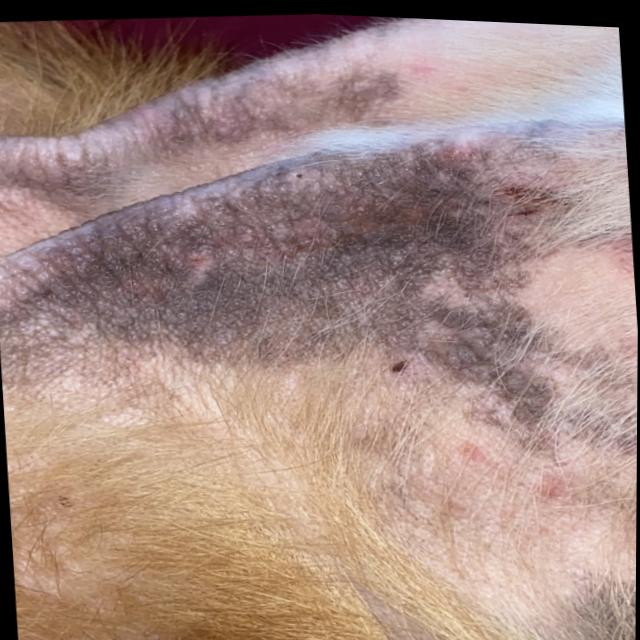demodicosis: (42, 114, 570, 480)
